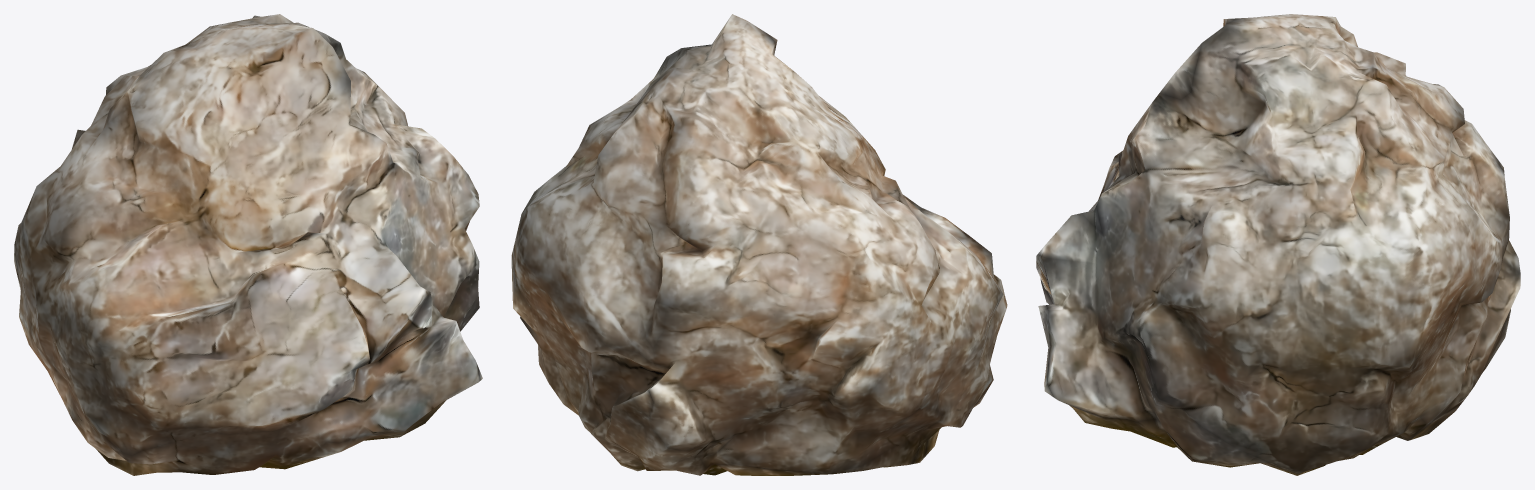
File: Caillou2.fbx
3 views of the same model, side by side, from view 1: azimuth 30°, elevation 25°; view 2: azimuth 150°, elevation 25°; view 3: azimuth 270°, elevation 25° (orthographic). The views are drawn at different scales.
Visible parts, largest first — view 1: geometry_0; view 2: geometry_0; view 3: geometry_0.
Boxes of the visible parts, x1,y1,x2,y2 form: geometry_0: (14,14,482,475); geometry_0: (511,14,1007,475); geometry_0: (1036,14,1520,475).
Bounding box in the file's own units: 100 × 94.52 × 100.
1 material, 1 textured.
